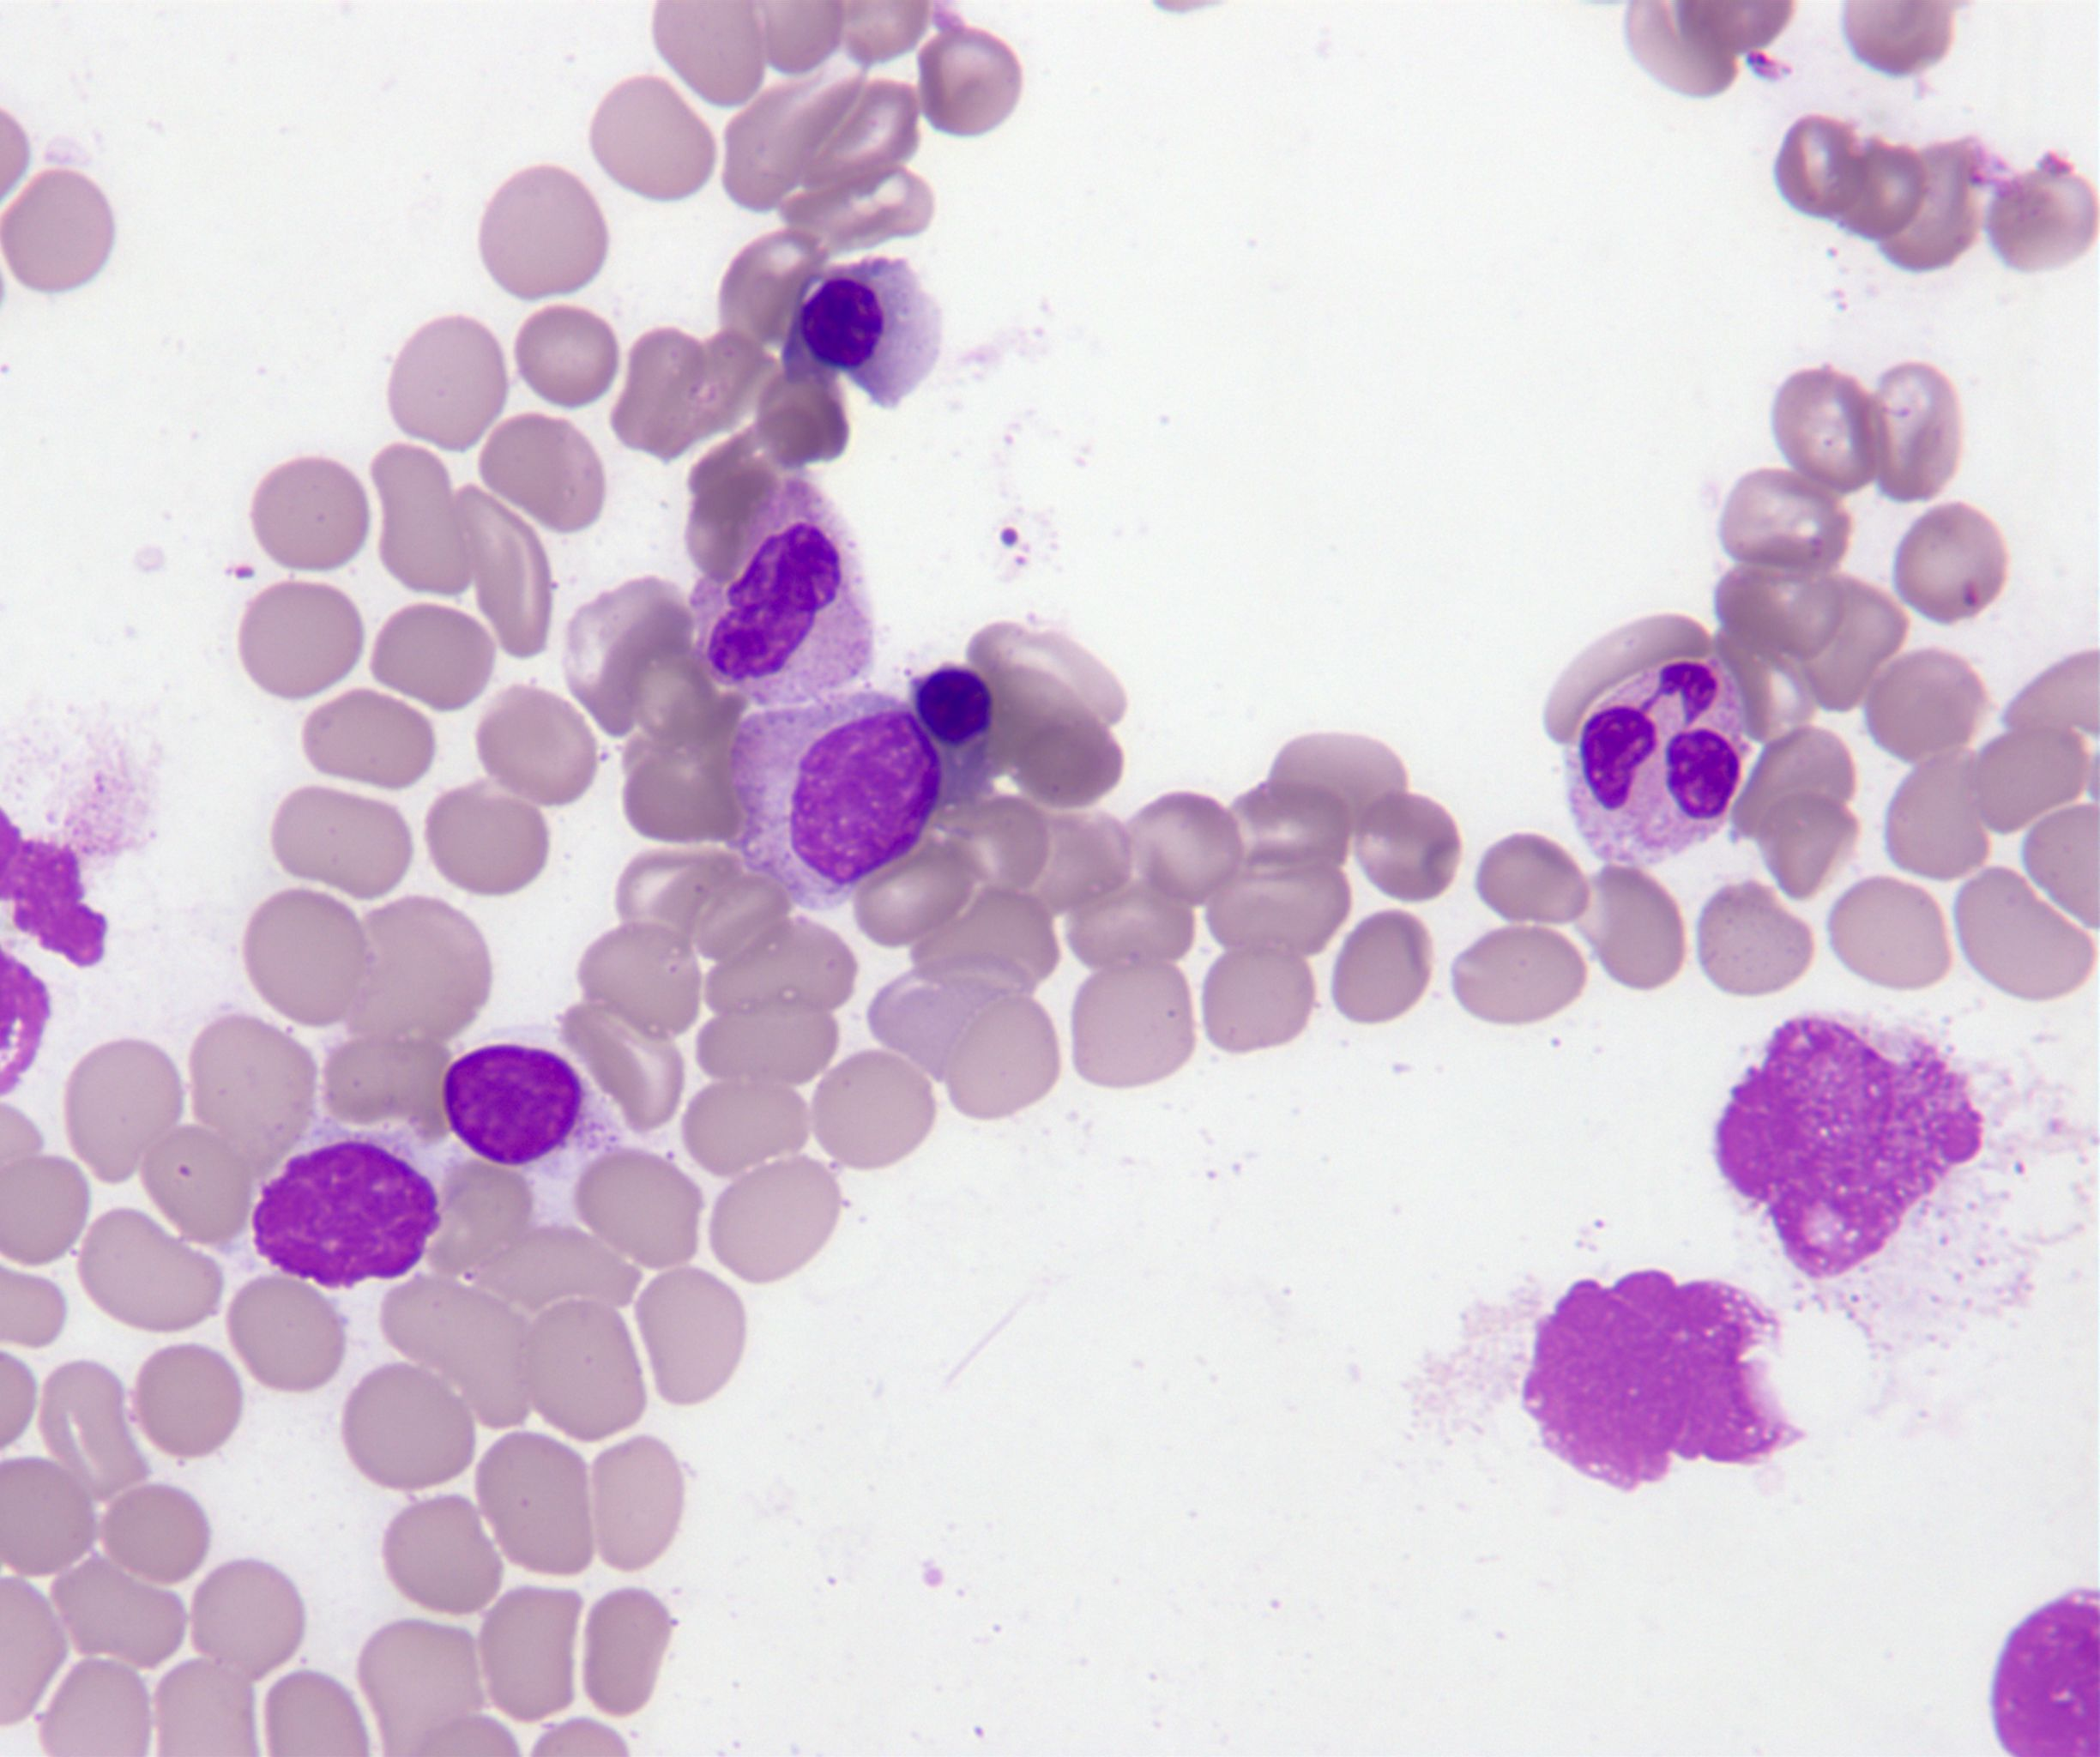24: (783, 255, 940, 408), (903, 665, 996, 804)
3: (729, 693, 944, 911)
32: (443, 1045, 624, 1178)
5: (689, 478, 874, 703)
6: (1566, 658, 1751, 867)
x: (1716, 1014, 1983, 1277), (1521, 1272, 1805, 1490), (251, 1129, 441, 1288), (1994, 1590, 2098, 1757)
